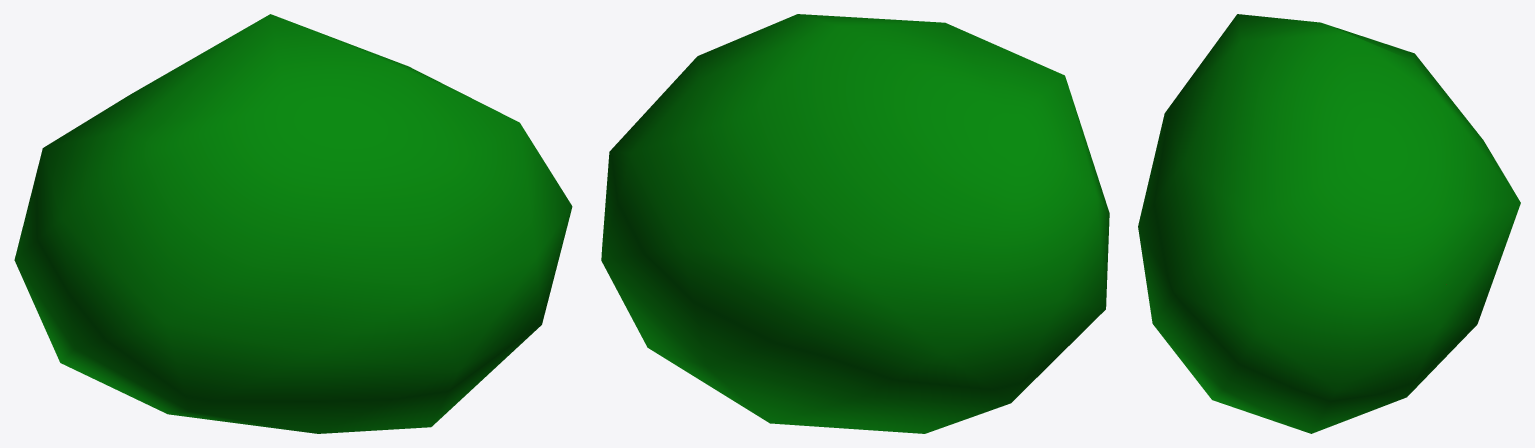
The model's file is Bush.fbx.
The picture shows the model from 3 angles, left to right: view 1: azimuth 30°, elevation 25°; view 2: azimuth 150°, elevation 25°; view 3: azimuth 270°, elevation 25°; orthographic projection. The views are drawn at different scales.
Visible parts, largest first — view 1: Outline; view 2: Outline; view 3: Outline.
Boxes of the visible parts, x1,y1,x2,y2 form: Outline: (14, 14, 572, 433); Outline: (601, 14, 1109, 433); Outline: (1138, 14, 1520, 433).
Size of the model in its own units: 2.09 by 1.57 by 1.61.
Materials: 1 (1 with a texture image).
